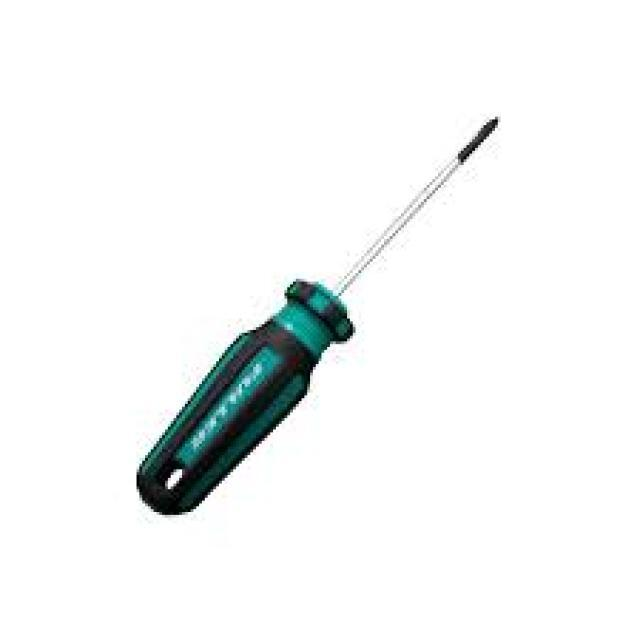screwdriver: (129, 102, 502, 526)
